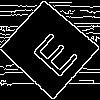E: (24, 24, 80, 80)
